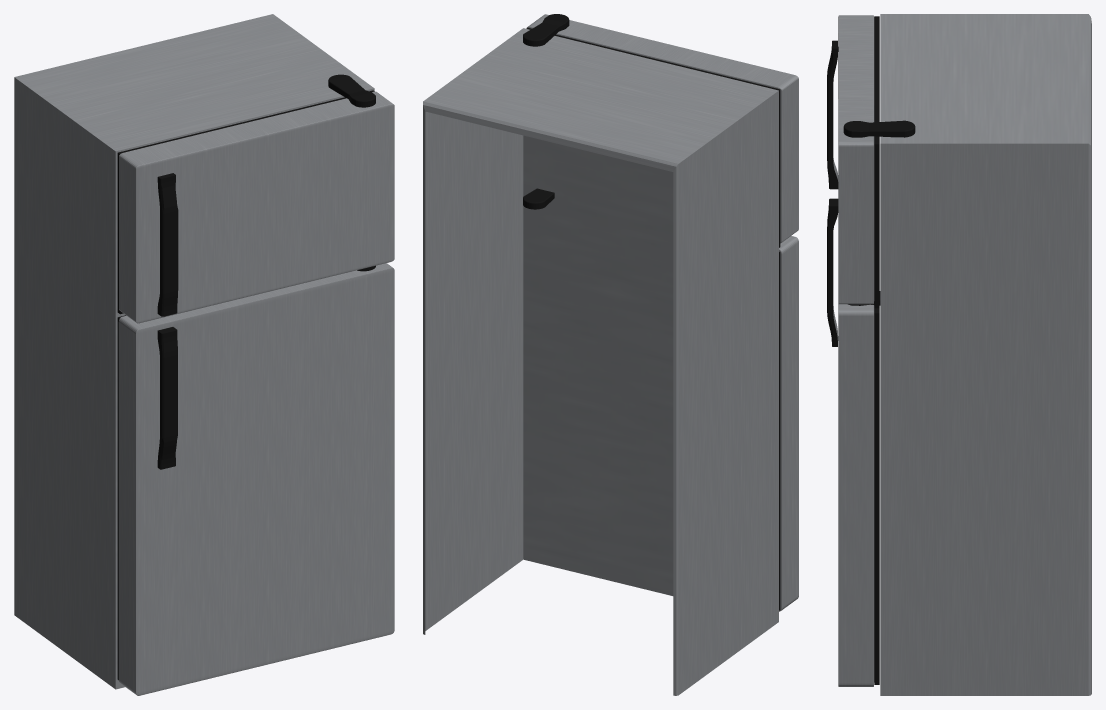
File: geladeira.fbx
3 renders of one model, left to right at view 1: azimuth 30°, elevation 25°; view 2: azimuth 150°, elevation 25°; view 3: azimuth 270°, elevation 25°, orthographic. The views are drawn at different scales.
Parts seen in each view (by area): view 1: Material-material; view 2: Material-material; view 3: Material-material.
Part boxes in pixels (x1,y1,x2,y2): Material-material: (14,14,394,695); Material-material: (423,14,798,695); Material-material: (827,14,1091,695).
Bounding box in the file's own units: 396 × 795 × 342.
1 material, 1 textured.
